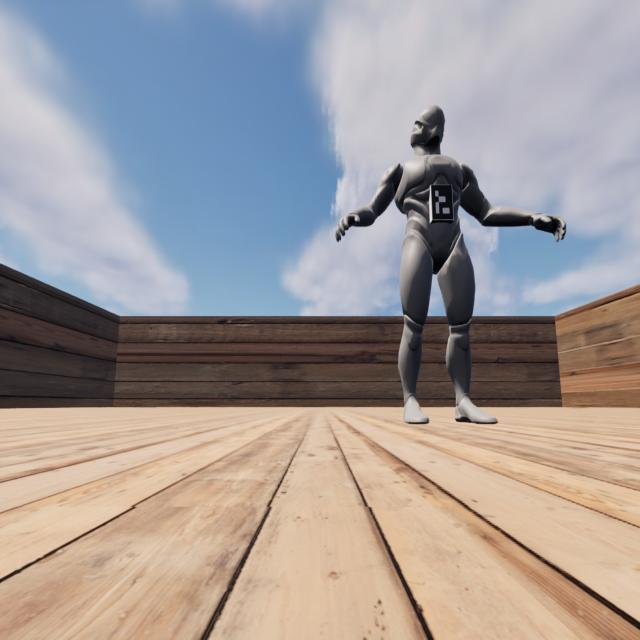aruco: (431, 185, 454, 219)
hip: (402, 235, 466, 245)
